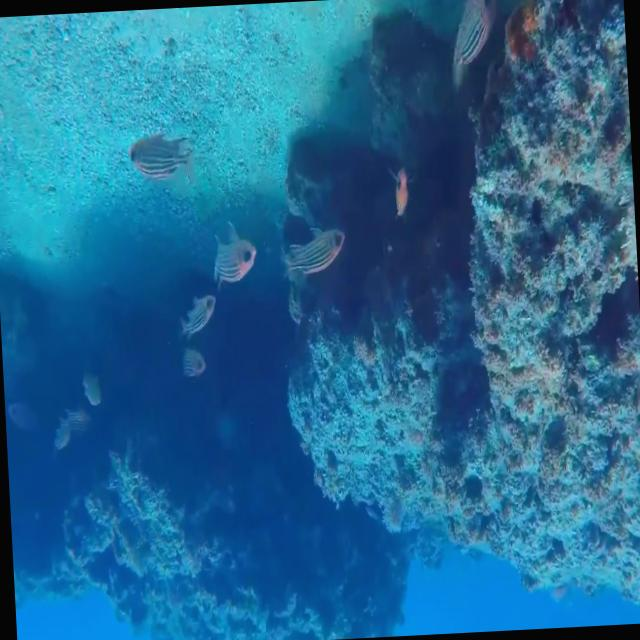Asker Baligi: (194, 226, 262, 286), (280, 223, 347, 280), (126, 130, 193, 183)
